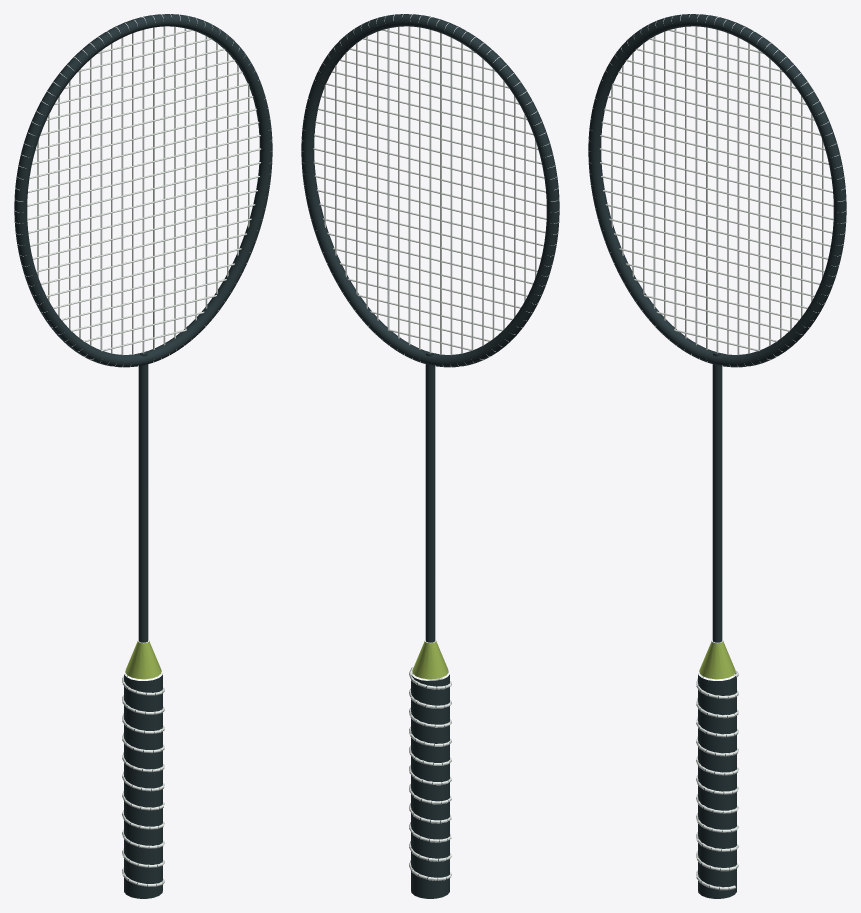
File: racket.glb
The picture shows the model from 3 angles, left to right: view 1: azimuth 30°, elevation 25°; view 2: azimuth 150°, elevation 25°; view 3: azimuth 330°, elevation 25°; orthographic projection.
Parts seen in each view (by area): view 1: FirstPersonRacket; view 2: FirstPersonRacket; view 3: FirstPersonRacket.
Part boxes in pixels (box(x1,y1,x2,y2)): FirstPersonRacket: box(14, 14, 272, 898); FirstPersonRacket: box(301, 14, 559, 898); FirstPersonRacket: box(588, 14, 846, 898).
Bounding box in the file's own units: 0.2099 × 0.6817 × 0.0303.
